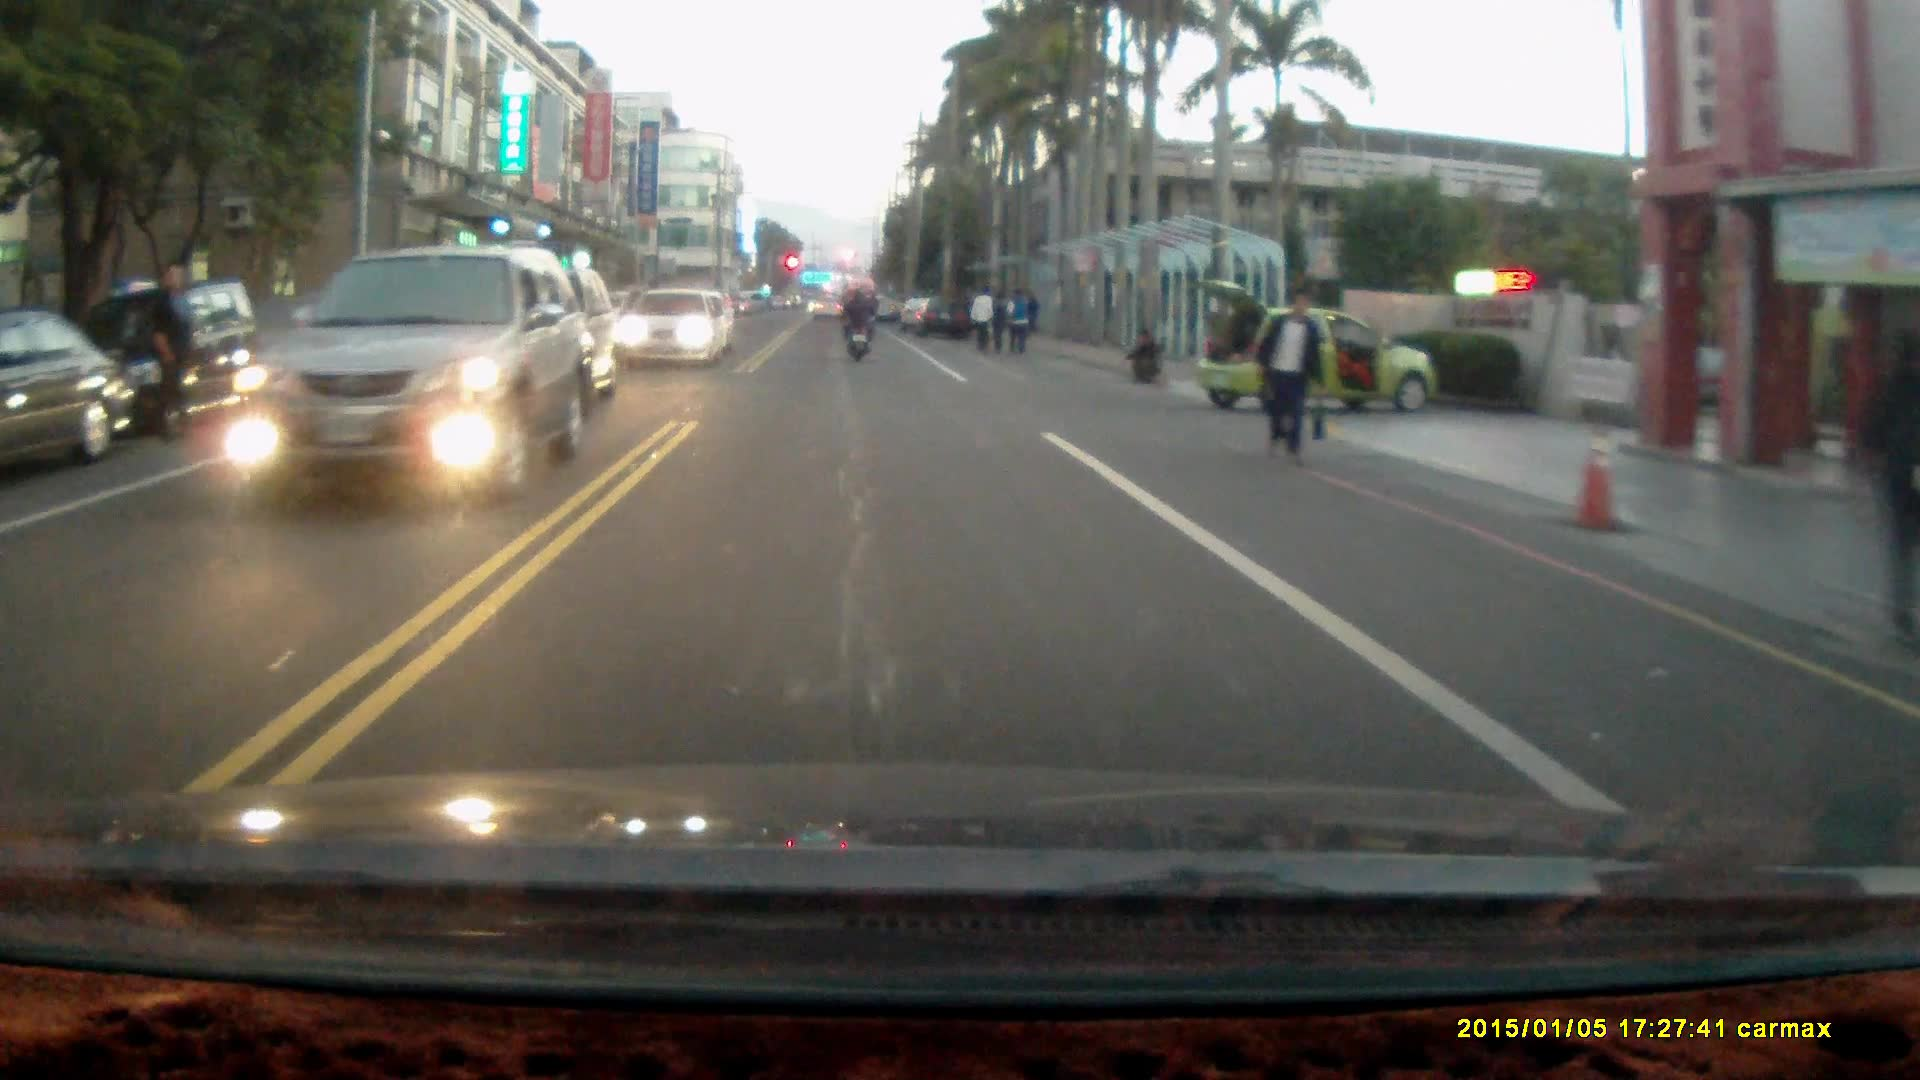pedestrian: (1857, 324, 1920, 663), (1252, 283, 1324, 471), (1124, 322, 1160, 382), (1004, 282, 1030, 357), (973, 288, 996, 361), (989, 287, 1011, 355)
rider: (838, 284, 877, 362)
vehicle: (228, 244, 589, 496), (1195, 273, 1438, 416), (84, 275, 263, 430), (621, 286, 732, 367), (919, 294, 973, 339)
